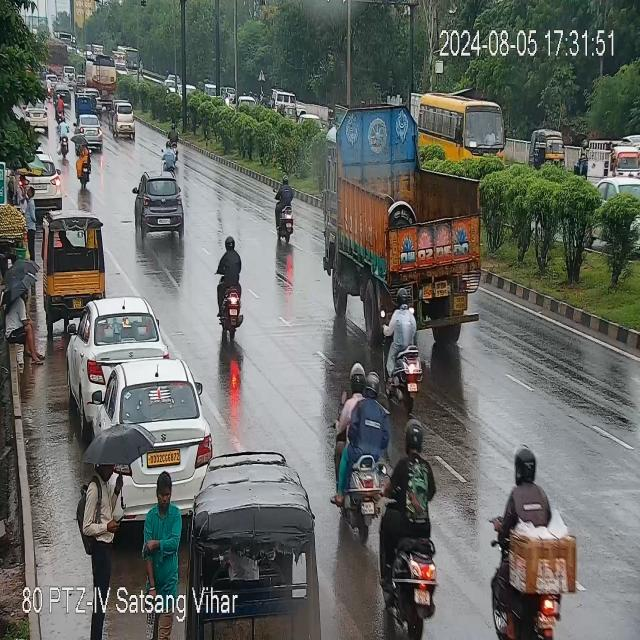2-wheelers: (379, 416, 437, 630), (486, 444, 581, 560), (332, 374, 392, 522), (379, 281, 426, 406), (131, 174, 187, 244), (211, 233, 246, 337), (45, 34, 77, 99), (273, 178, 300, 245), (158, 139, 182, 175)
auto: (194, 470, 311, 581), (43, 212, 110, 308), (530, 129, 567, 166), (109, 101, 137, 139), (76, 112, 106, 144), (75, 92, 101, 118)
bus: (411, 90, 506, 168)
car: (83, 363, 210, 493), (71, 296, 168, 405), (15, 157, 63, 205)
pedestrian: (142, 479, 186, 616), (83, 457, 130, 580), (5, 288, 50, 379), (25, 184, 39, 253)
truck: (325, 116, 489, 338), (584, 139, 640, 183)
